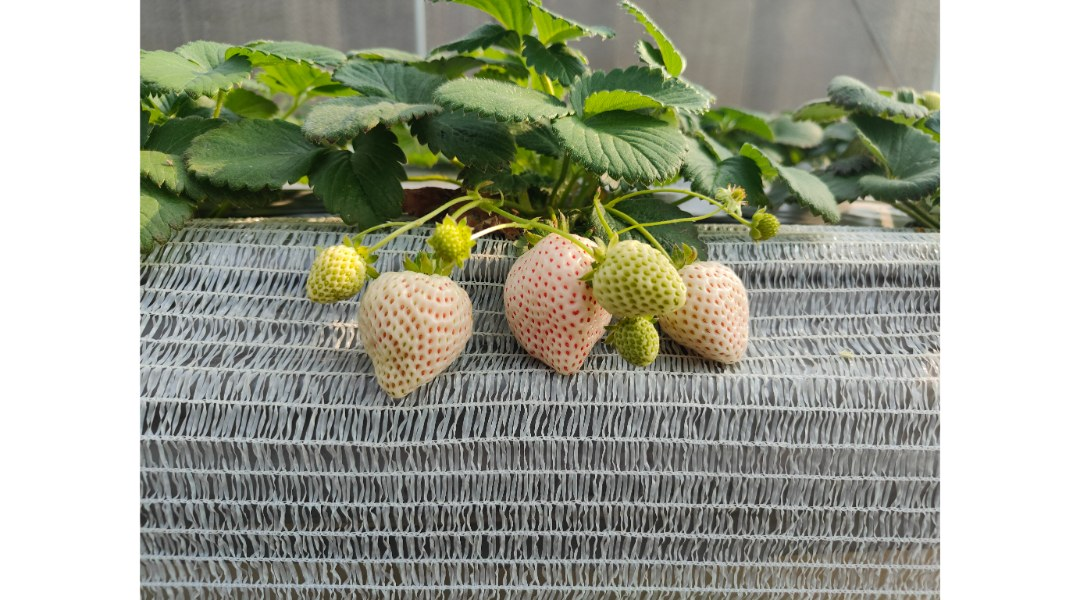berry: (498, 235, 622, 388), (353, 272, 475, 404), (673, 261, 775, 372), (584, 225, 693, 319), (297, 228, 364, 309), (603, 299, 666, 372), (426, 205, 475, 277), (745, 204, 785, 249)
flower: (720, 177, 745, 212)
strain: (611, 210, 679, 272), (615, 170, 714, 206), (618, 214, 709, 235), (466, 222, 512, 242), (371, 230, 411, 252), (363, 216, 403, 235)
